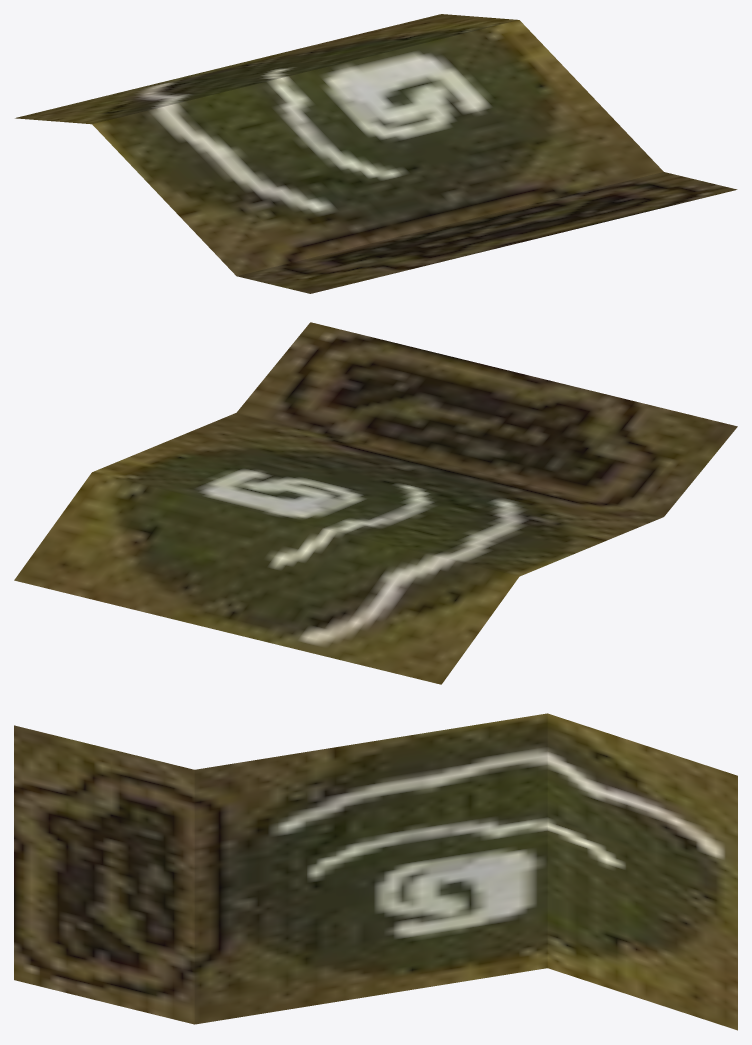
File: ITSC_WINDFIST.glb
3 views of the same model, one above another, from view 1: azimuth 30°, elevation 25°; view 2: azimuth 150°, elevation 25°; view 3: azimuth 270°, elevation 25° (orthographic). The views are drawn at different scales.
Visible parts, largest first — view 1: ITSC_WINDFIST; view 2: ITSC_WINDFIST; view 3: ITSC_WINDFIST.
Boxes of the visible parts, bbox=[...] form: ITSC_WINDFIST: bbox=[15, 14, 737, 293]; ITSC_WINDFIST: bbox=[14, 322, 737, 684]; ITSC_WINDFIST: bbox=[14, 713, 737, 1030].
Size of the model in its own units: 0.46 by 0.0525 by 0.5524.
1 material, 1 textured.
